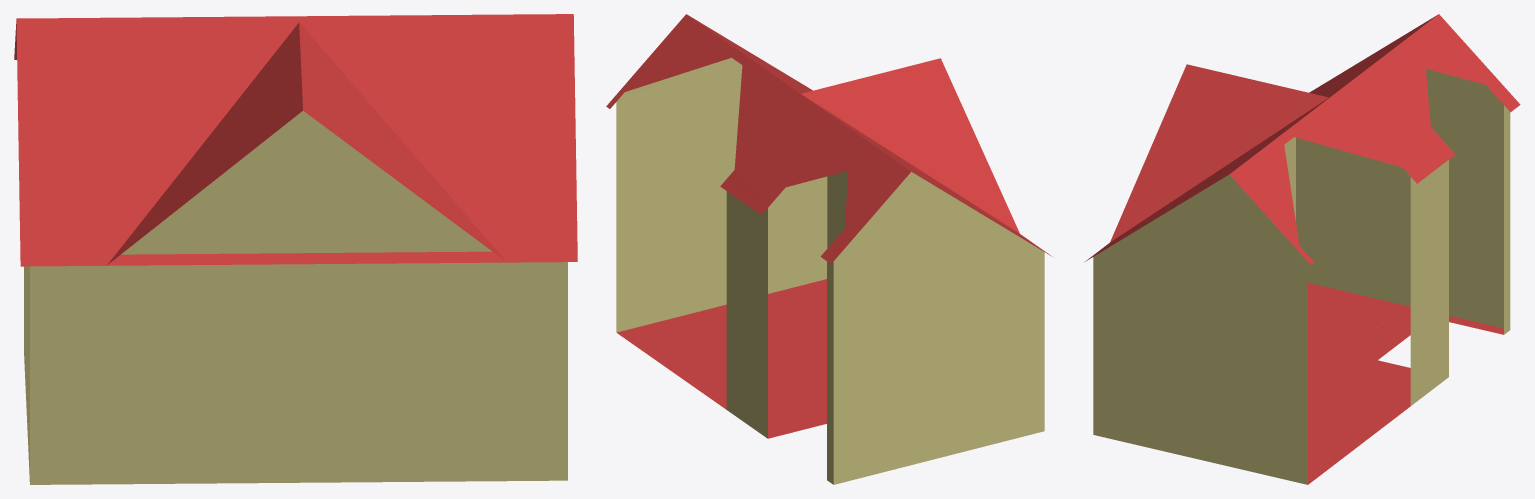
The picture shows the model from 3 angles, left to right: view 1: azimuth 30°, elevation 25°; view 2: azimuth 150°, elevation 25°; view 3: azimuth 270°, elevation 25°; orthographic projection. The views are drawn at different scales.
Size of the model in its own units: 16.95 by 14.67 by 10.95.
